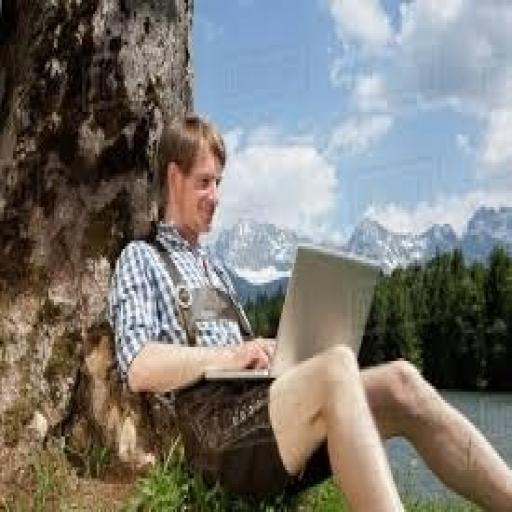using_laptop: (201, 238, 382, 383)
